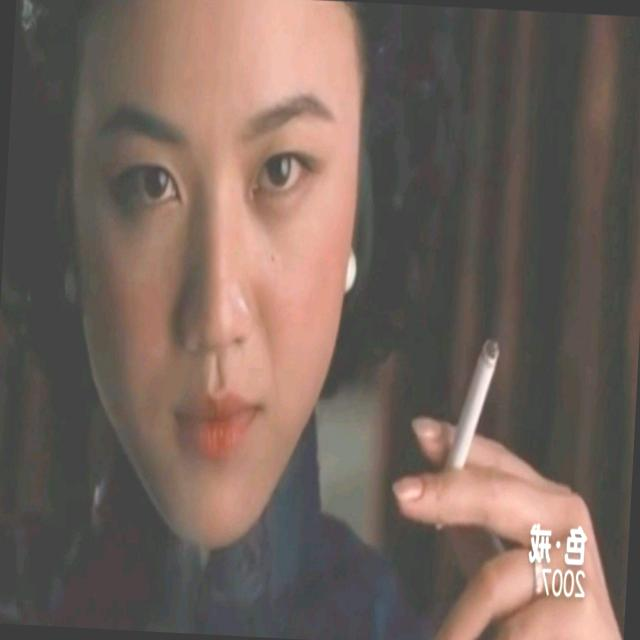cigarette: (425, 322, 505, 543)
